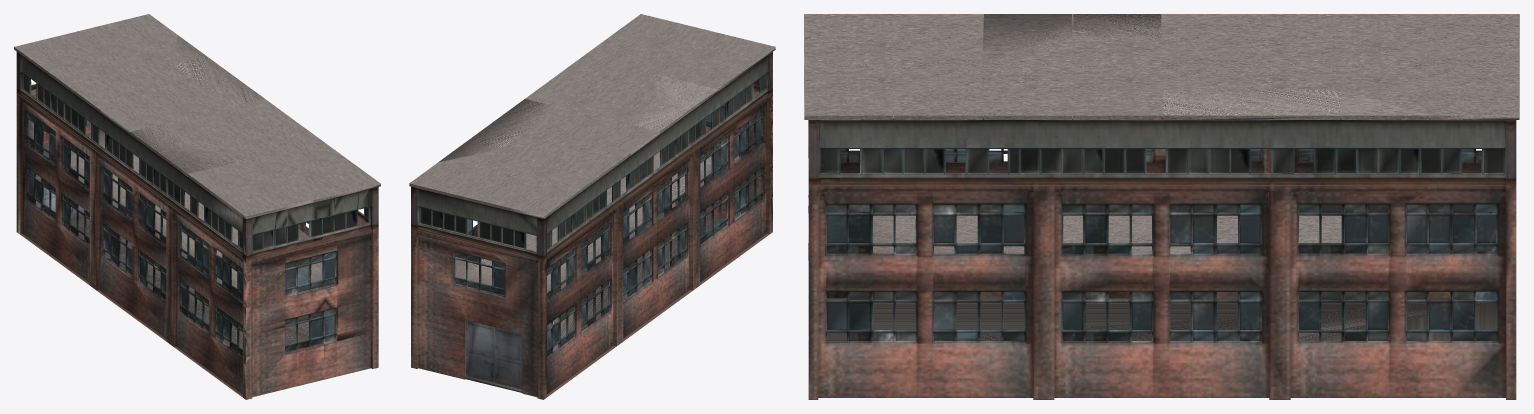
File: obj_oldind.glb
3 views of the same model, side by side, from view 1: azimuth 30°, elevation 25°; view 2: azimuth 150°, elevation 25°; view 3: azimuth 270°, elevation 25° (orthographic). The views are drawn at different scales.
Visible parts, largest first — view 1: body|building, body|building_floor, body|building_windows; view 2: body|building, body|building_floor, body|building_windows; view 3: body|building, body|building_floor, body|building_windows.
Boxes of the visible parts, x1,y1,x2,y2 form: body|building: (16, 52, 378, 399); body|building_floor: (14, 14, 380, 348); body|building_windows: (24, 74, 368, 356); body|building: (411, 52, 772, 399); body|building_floor: (409, 14, 775, 392); body|building_windows: (420, 74, 765, 356); body|building: (808, 120, 1516, 399); body|building_floor: (804, 14, 1519, 340); body|building_windows: (820, 149, 1503, 340).
Bounding box in the file's own units: 11.61 × 15.17 × 34.51.
3 materials, 3 textured.
